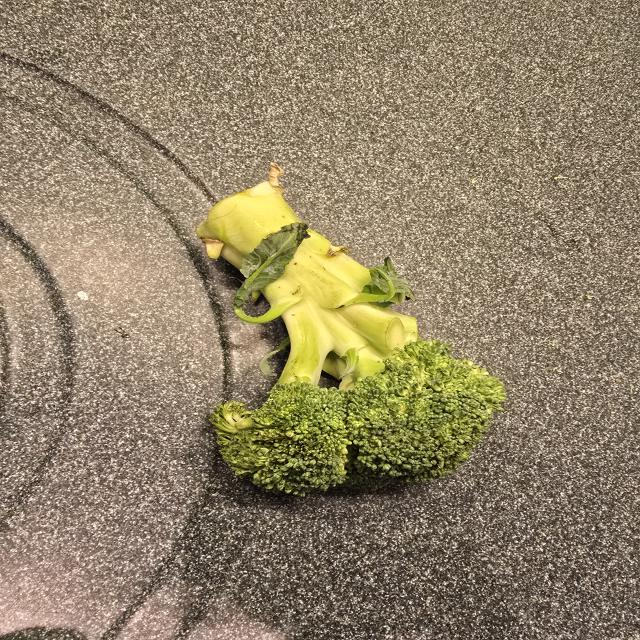Broccoli: (189, 178, 507, 496)
